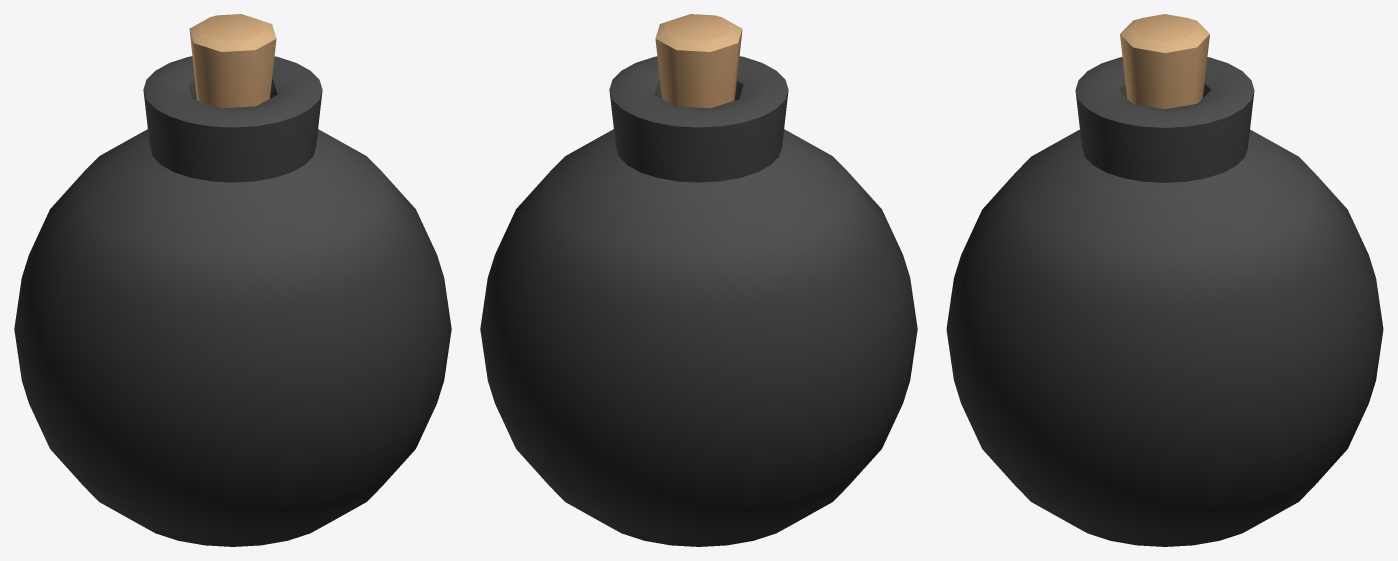
3 renders of one model, left to right at view 1: azimuth 30°, elevation 25°; view 2: azimuth 150°, elevation 25°; view 3: azimuth 270°, elevation 25°, orthographic.
Parts seen in each view (by area): view 1: bomb; view 2: bomb; view 3: bomb.
Part boxes in pixels (x1=…): bomb: x1=14, y1=14, x2=451, y2=546; bomb: x1=480, y1=14, x2=917, y2=546; bomb: x1=946, y1=14, x2=1383, y2=546.
Bounding box in the file's own units: 80 × 101 × 80.
Materials: 1 (1 with a texture image).
